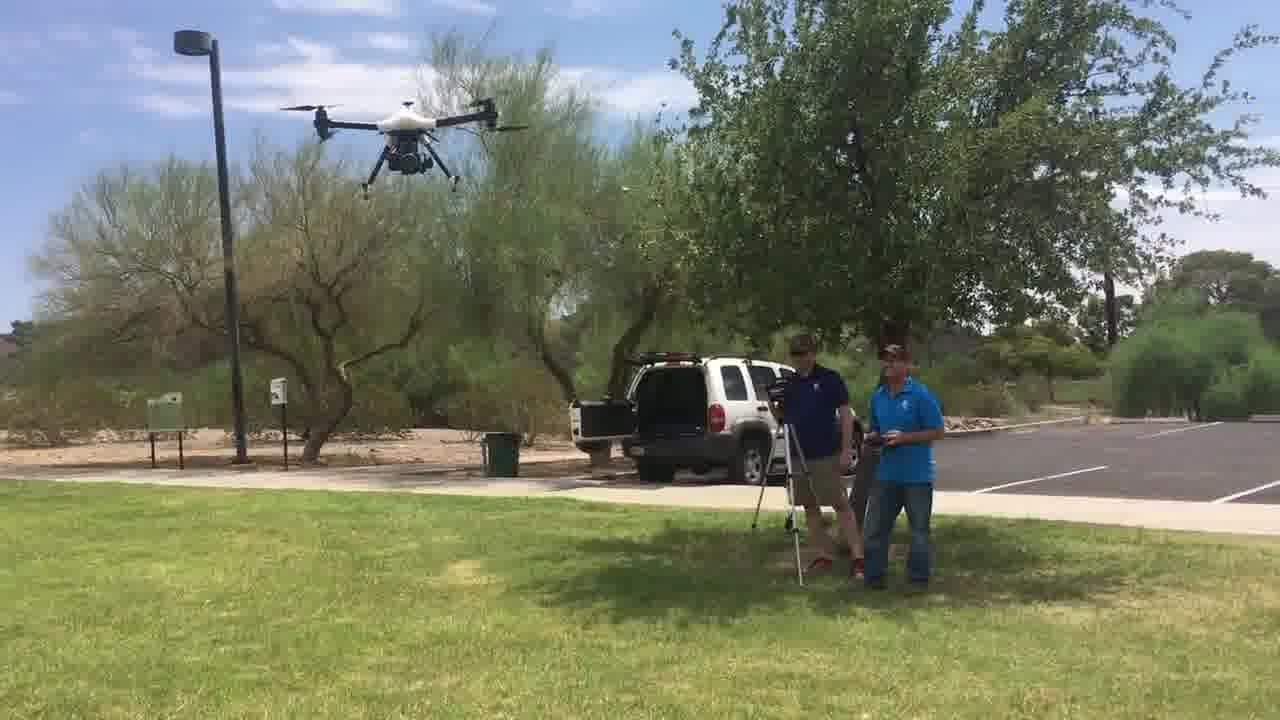drone: (283, 86, 529, 205)
